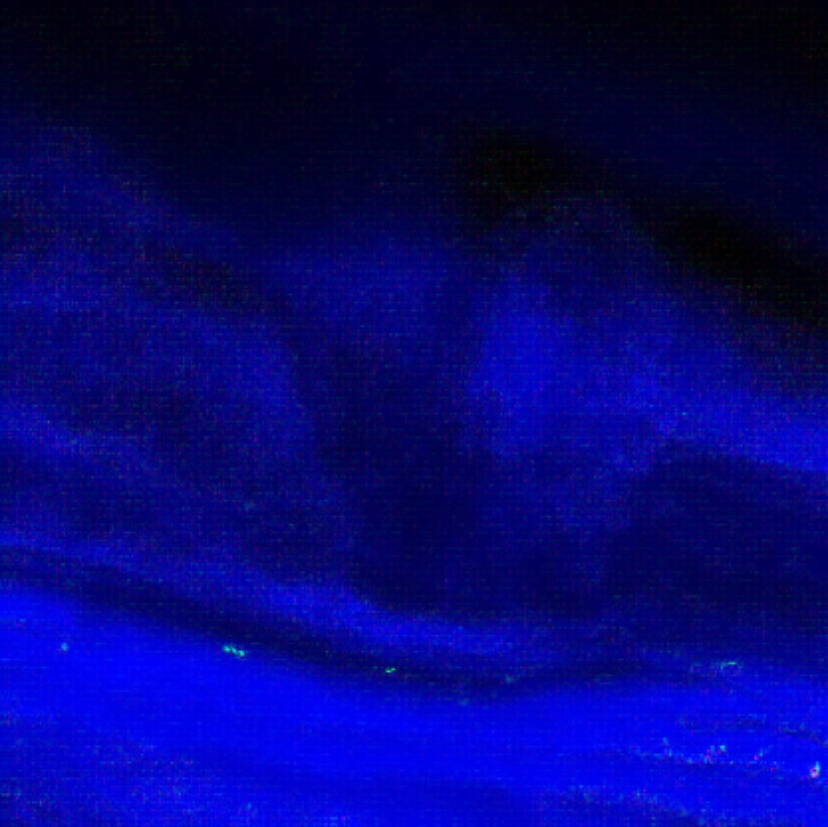rip_current: (246, 215, 528, 590)
